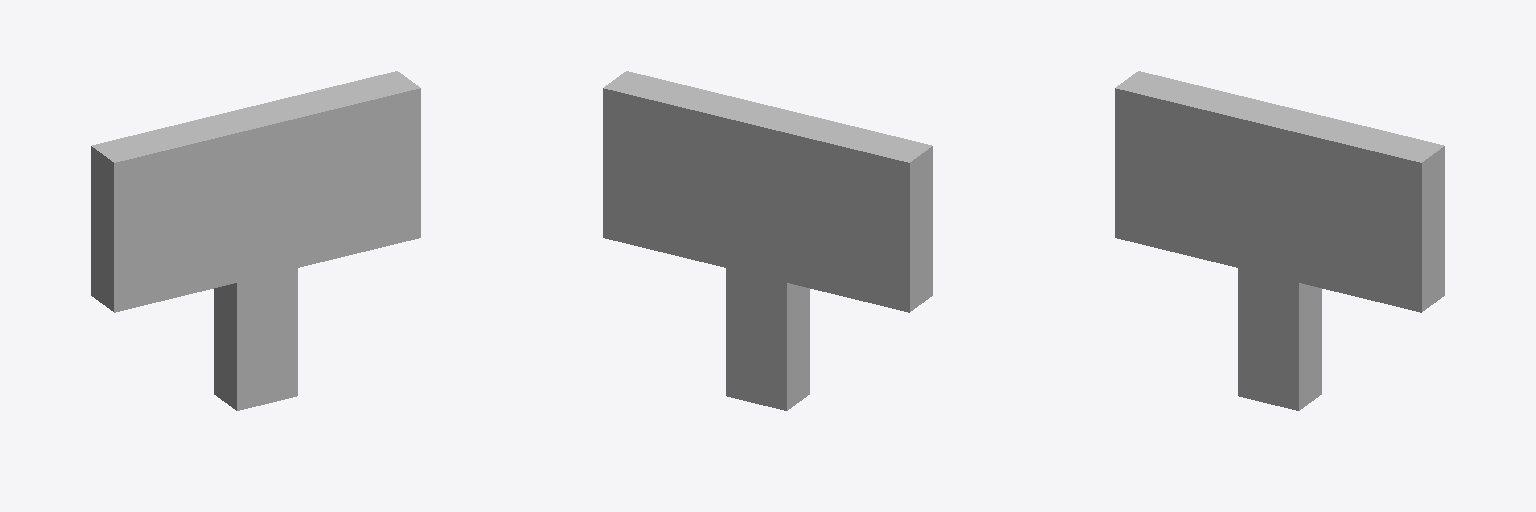
The model's file is usa sign.obj.
3 views of the same model, side by side, from view 1: azimuth 30°, elevation 25°; view 2: azimuth 150°, elevation 25°; view 3: azimuth 330°, elevation 25° (orthographic).
Bounding box in the file's own units: 15 × 13 × 2.